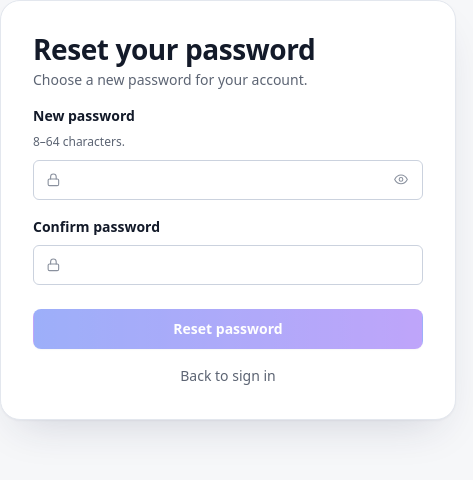
Test case: PasswordResetForm › mode=reset › flags a 7-character password client-side and blocks submission
The image size is (473, 480).
Type "1234567" into the password field labelled "New password". click: (228, 180)
box: [33, 160, 423, 200]
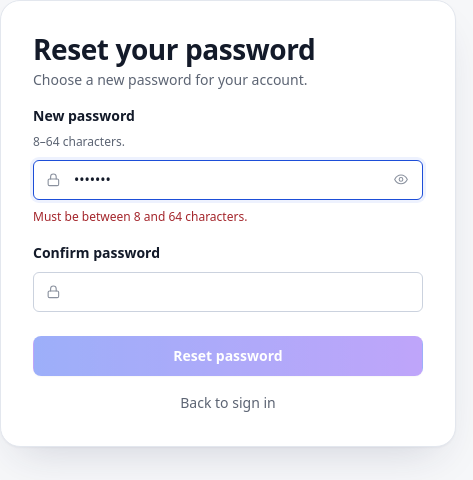
Expected: the button "Reset password" is disabled, [33, 336, 423, 376]
Now the text "Must be between 8 and 64 characters." is shown, box [33, 208, 247, 225]
